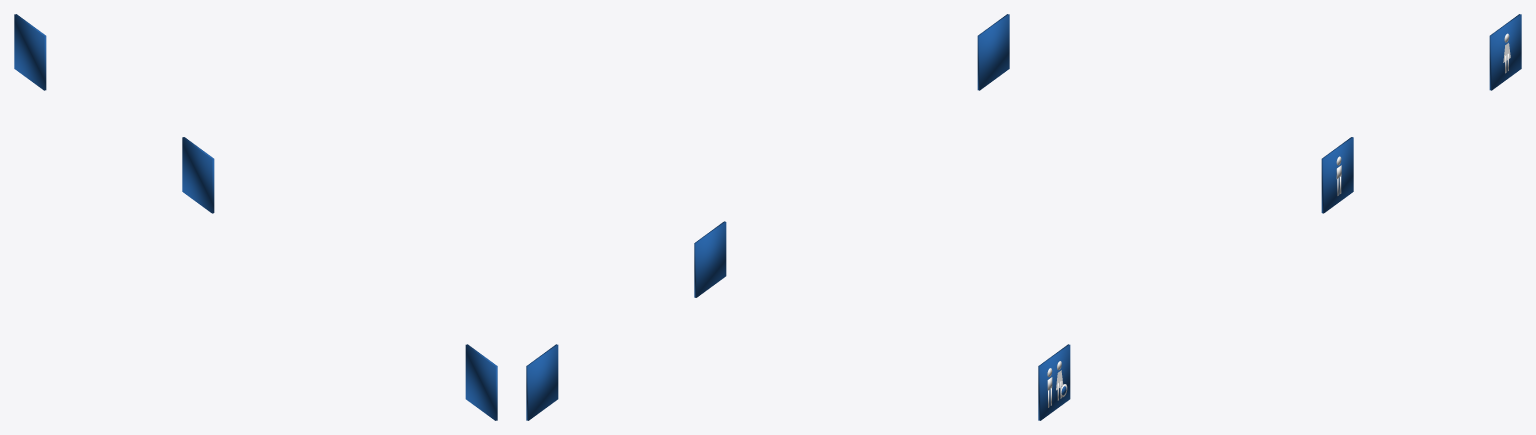
The model's file is 17_nivel_2_general.glb.
3 renders of one model, left to right at view 1: azimuth 30°, elevation 25°; view 2: azimuth 150°, elevation 25°; view 3: azimuth 330°, elevation 25°, orthographic.
Visible parts, largest first — view 1: pictograma_mujeres, pictograma_neutro, pictograma_hombres; view 2: pictograma_mujeres, pictograma_neutro, pictograma_hombres; view 3: pictograma_mujeres, pictograma_neutro, pictograma_hombres.
Part boxes in pixels (x1,y1,x2,y2): pictograma_mujeres: (14,14,46,90); pictograma_neutro: (465,344,497,420); pictograma_hombres: (182,137,214,213); pictograma_mujeres: (526,344,558,420); pictograma_neutro: (977,14,1009,90); pictograma_hombres: (694,221,726,297); pictograma_mujeres: (1489,14,1521,90); pictograma_neutro: (1038,344,1070,420); pictograma_hombres: (1321,137,1353,213).
Bounding box in the file's own units: 0.015 × 0.28 × 4.5.
